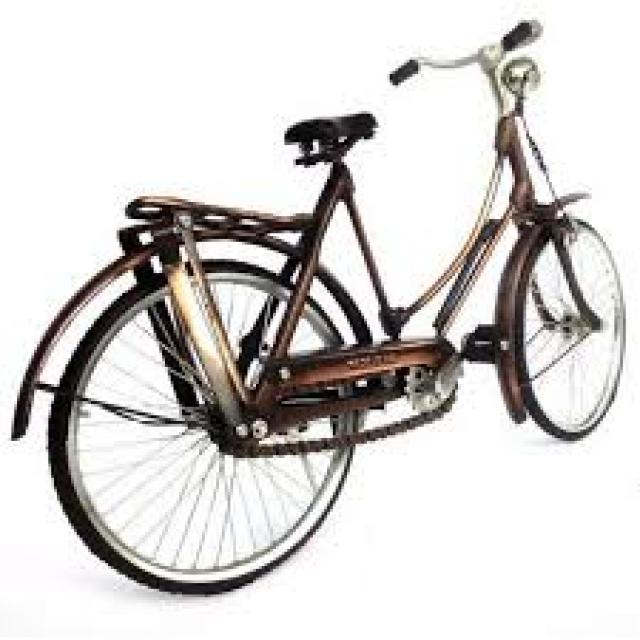bicycle: (22, 15, 612, 596)
